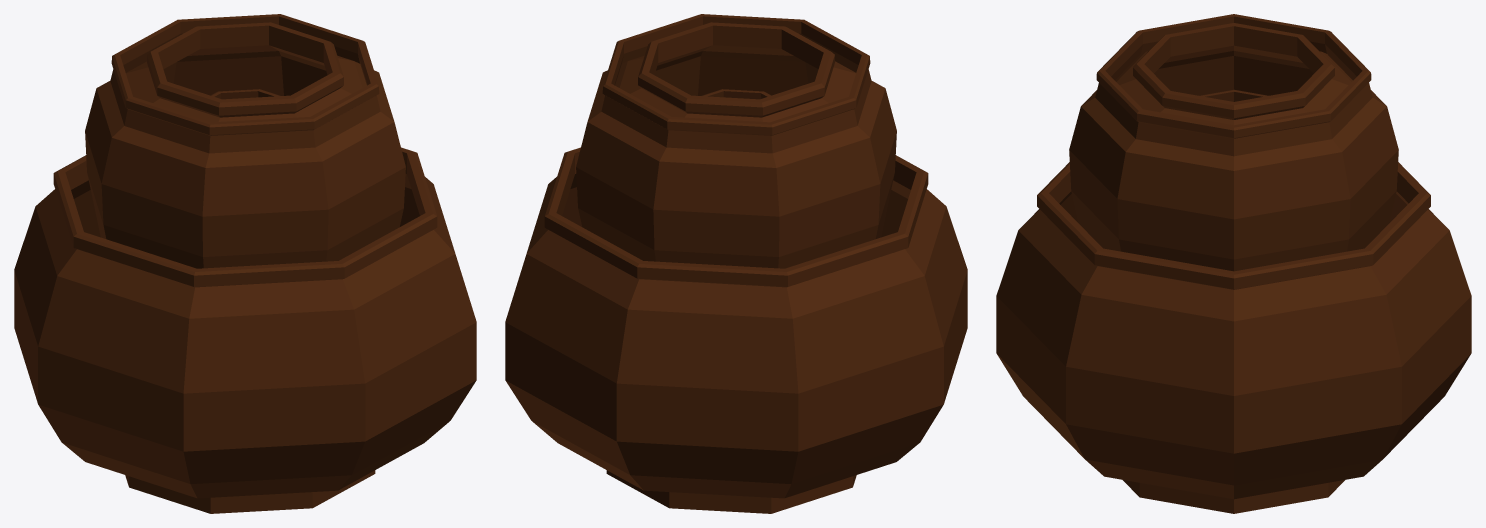
Rendered from Pottery_01.fbx_Collection.fbx.
3 views of the same model, side by side, from view 1: azimuth 30°, elevation 25°; view 2: azimuth 150°, elevation 25°; view 3: azimuth 270°, elevation 25° (orthographic).
Parts seen in each view (by area): view 1: Cylinder.003, Cylinder.002, Cylinder.008; view 2: Cylinder.003, Cylinder.002, Cylinder.008; view 3: Cylinder.003, Cylinder.002, Cylinder.008.
Boxes of the visible parts, x1=… form: Cylinder.003: x1=14, y1=147, x2=476, y2=513; Cylinder.002: x1=85, y1=22, x2=405, y2=268; Cylinder.008: x1=110, y1=14, x2=380, y2=153; Cylinder.003: x1=505, y1=147, x2=967, y2=513; Cylinder.002: x1=576, y1=22, x2=896, y2=268; Cylinder.008: x1=601, y1=14, x2=871, y2=153; Cylinder.003: x1=996, y1=162, x2=1471, y2=513; Cylinder.002: x1=1069, y1=23, x2=1398, y2=271; Cylinder.008: x1=1095, y1=14, x2=1372, y2=156.
Bounding box in the file's own units: 63.5 × 58.02 × 63.5.
